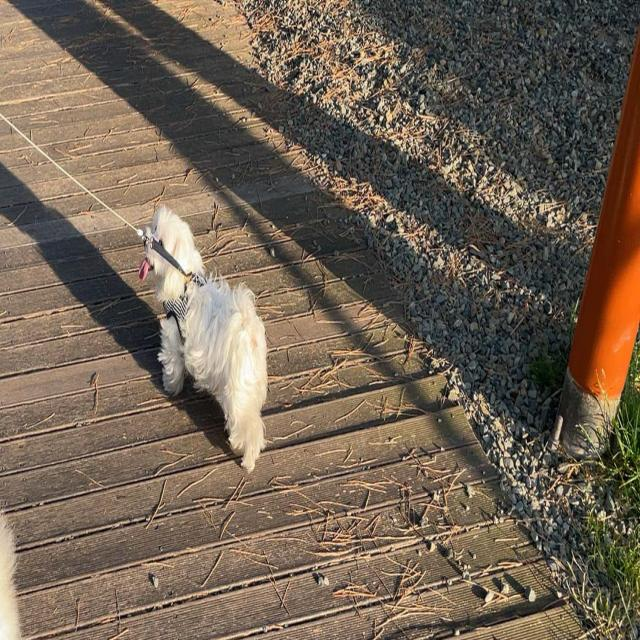Dog: (139, 204, 268, 476)
